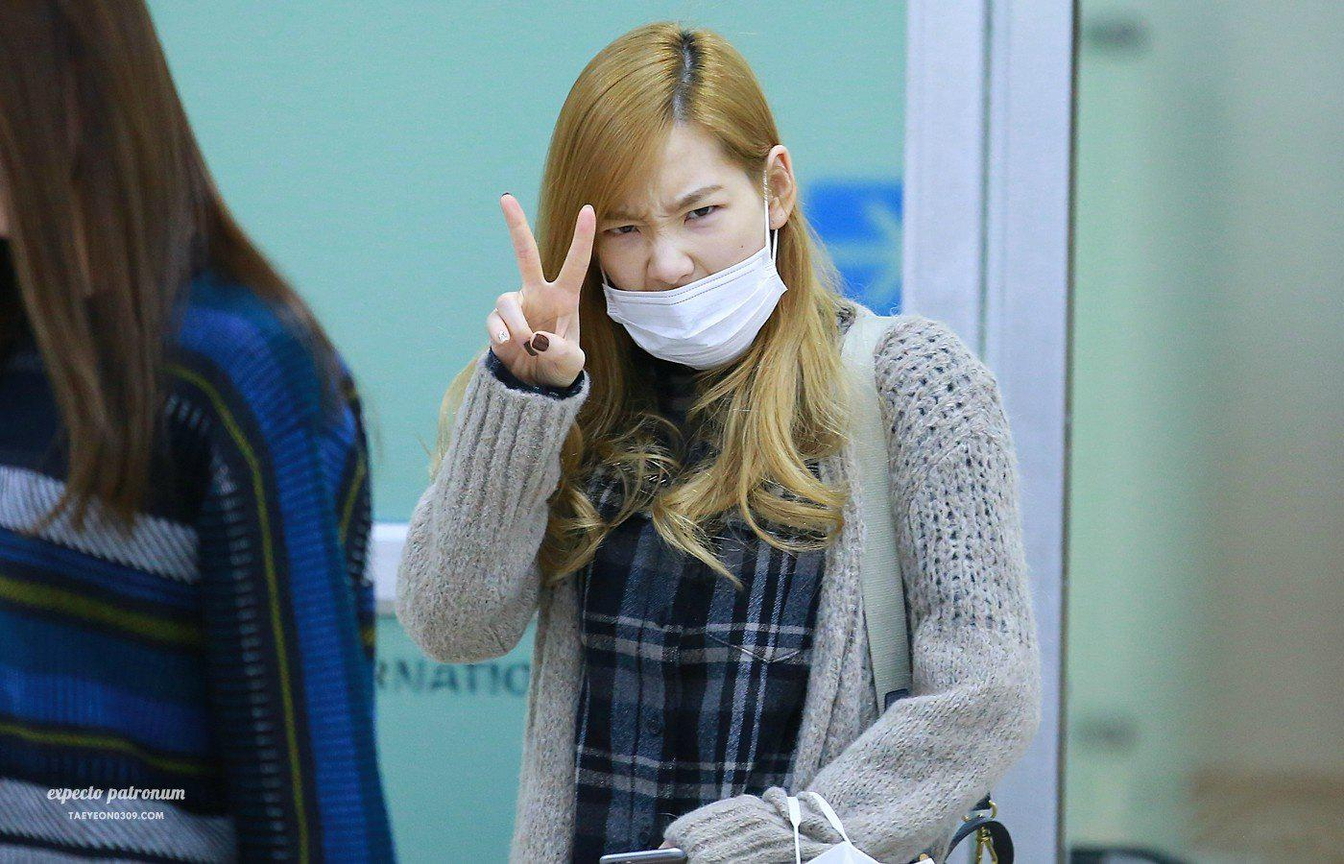WRONG: (596, 169, 776, 365)
